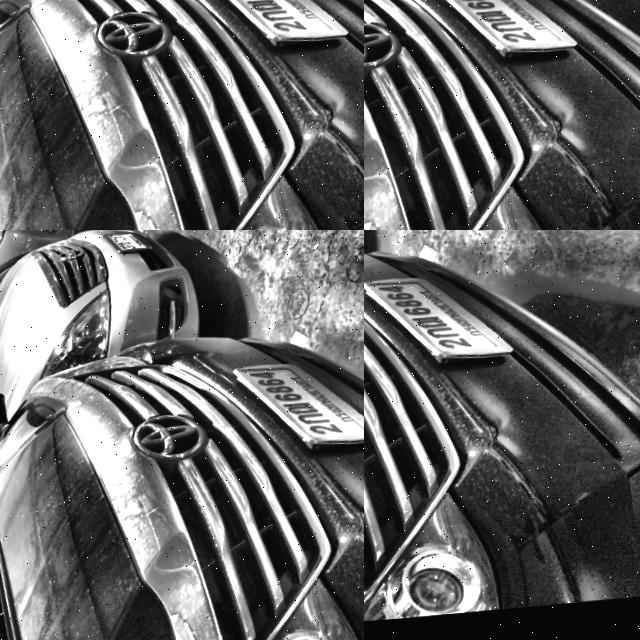license-plate: (364, 268, 529, 374)
